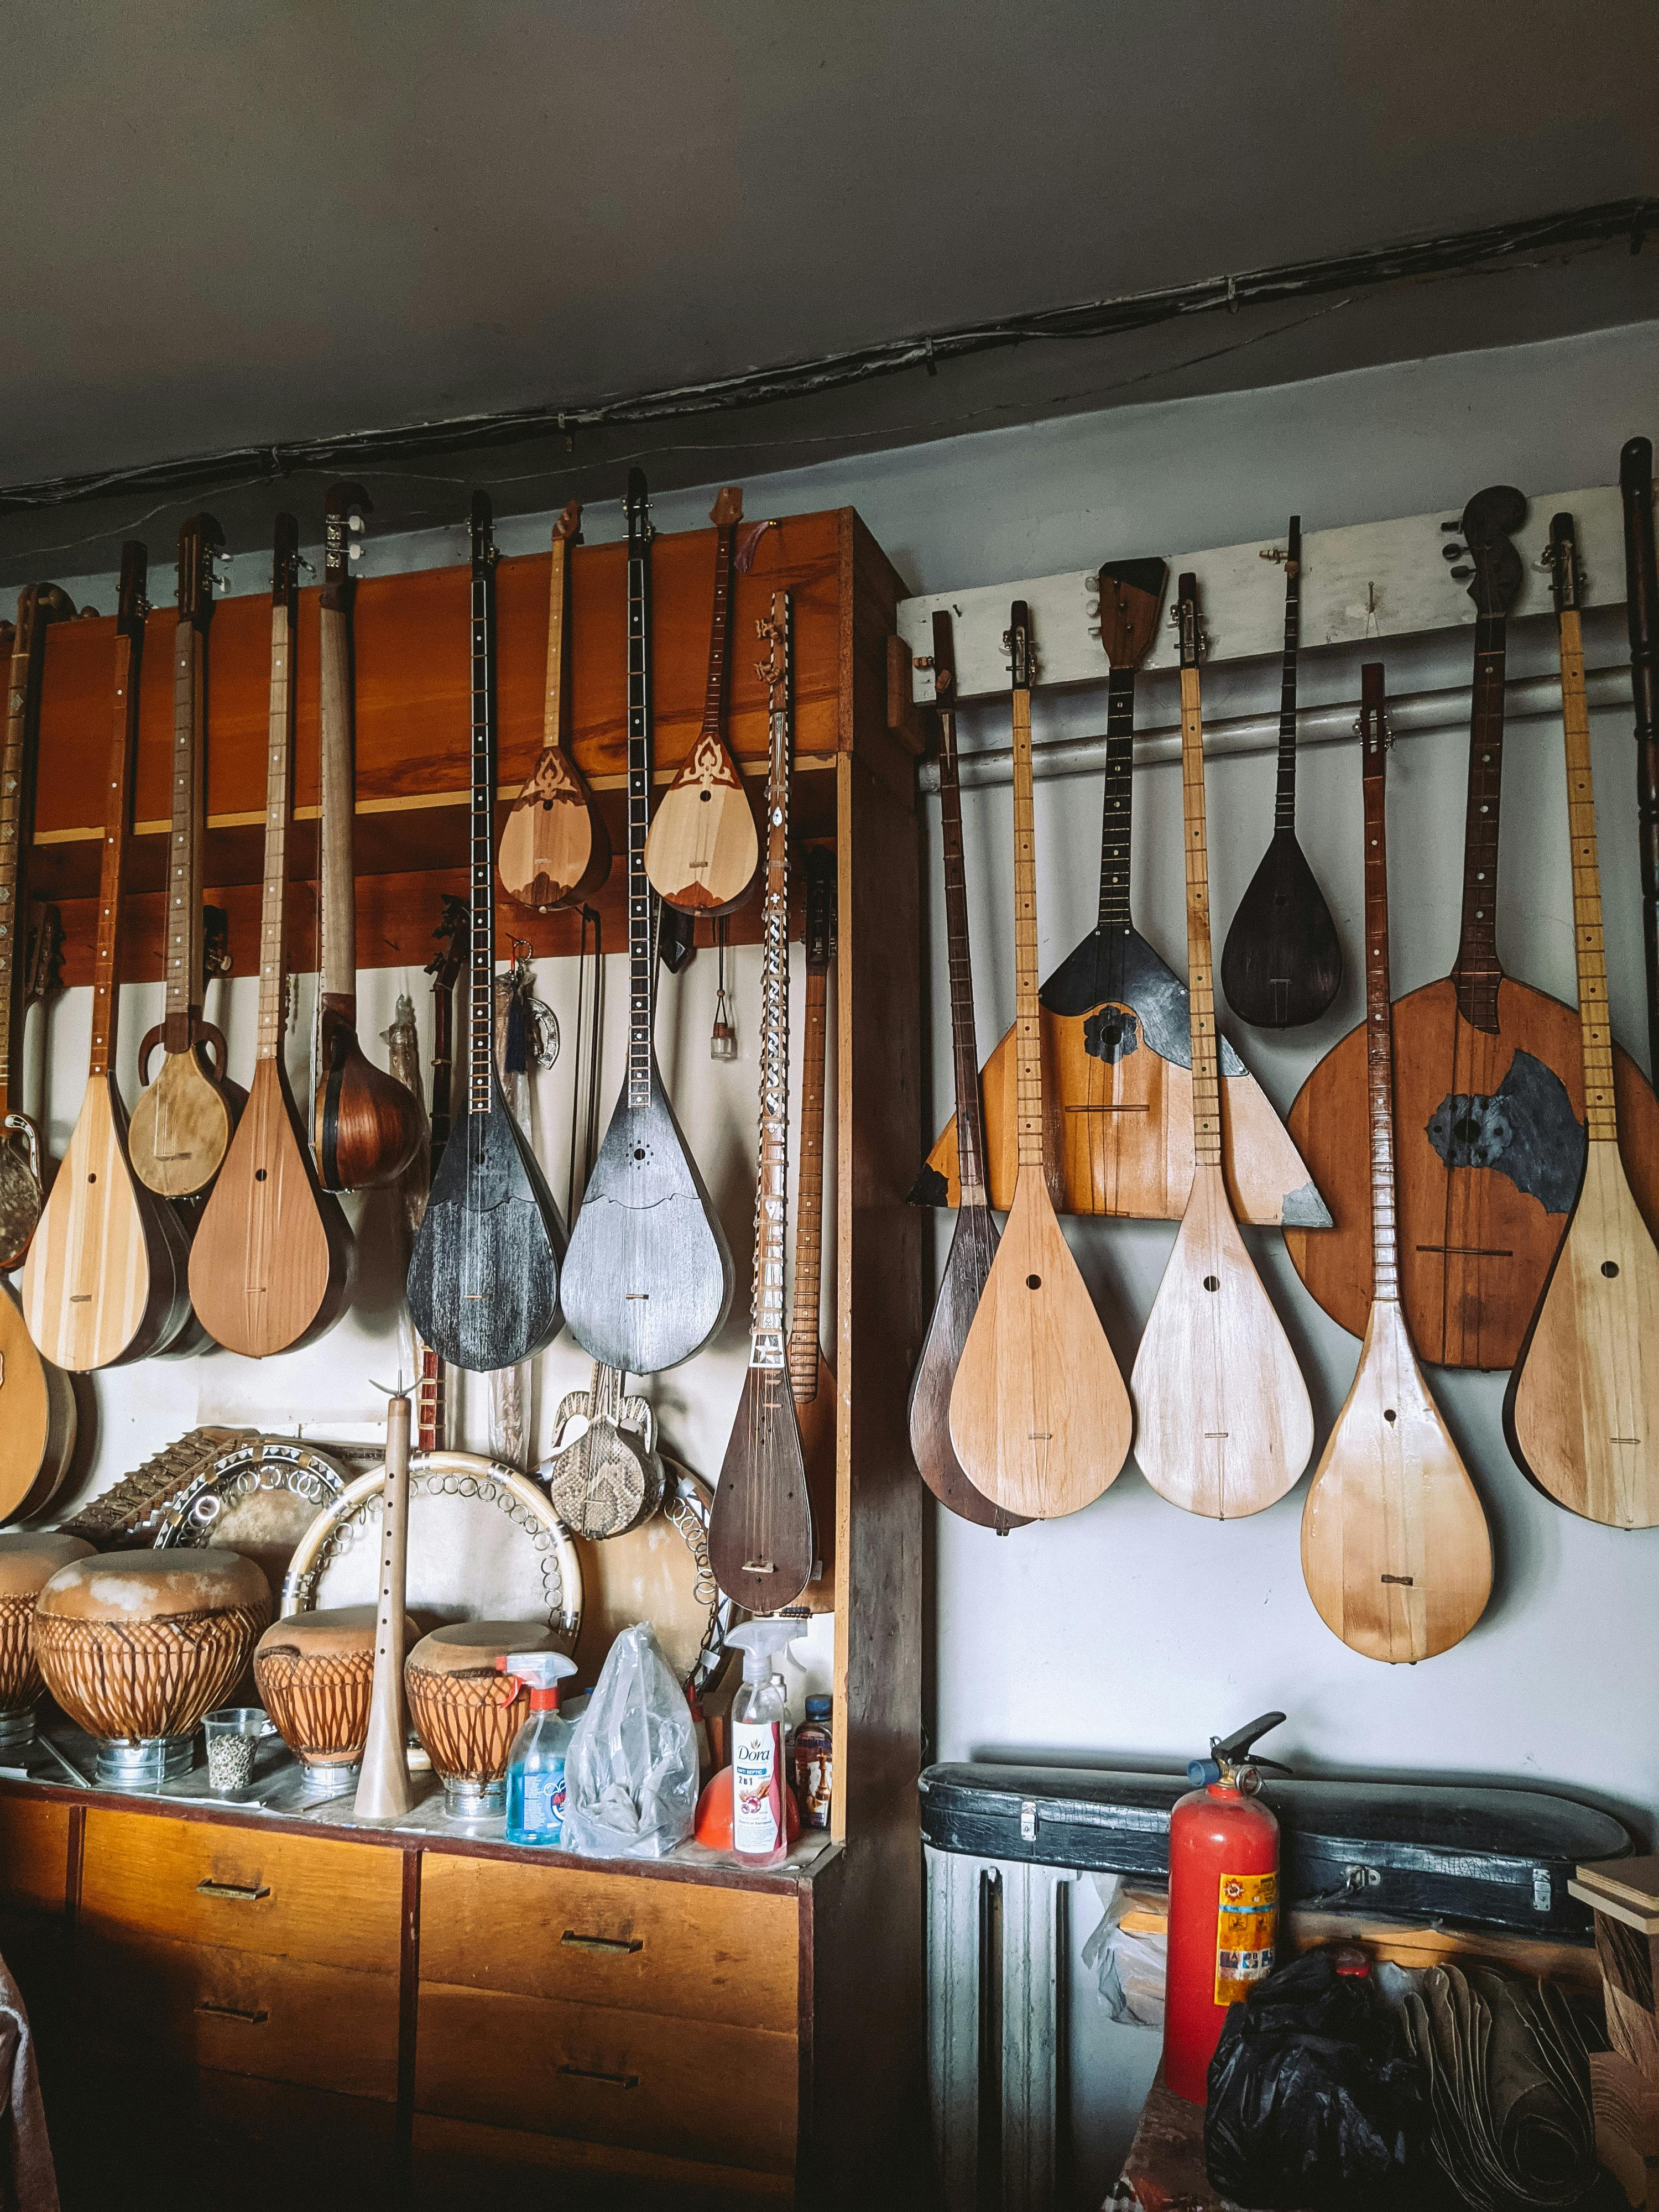extintor: (1155, 1709, 1309, 2109)
